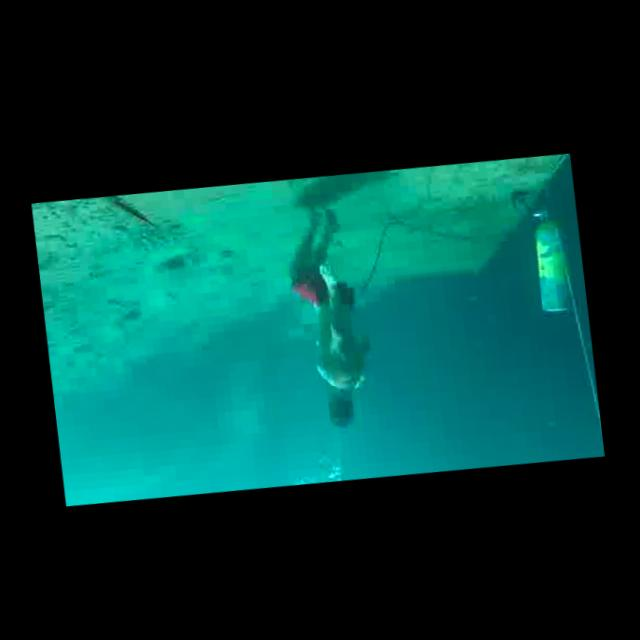human: (275, 176, 389, 434)
